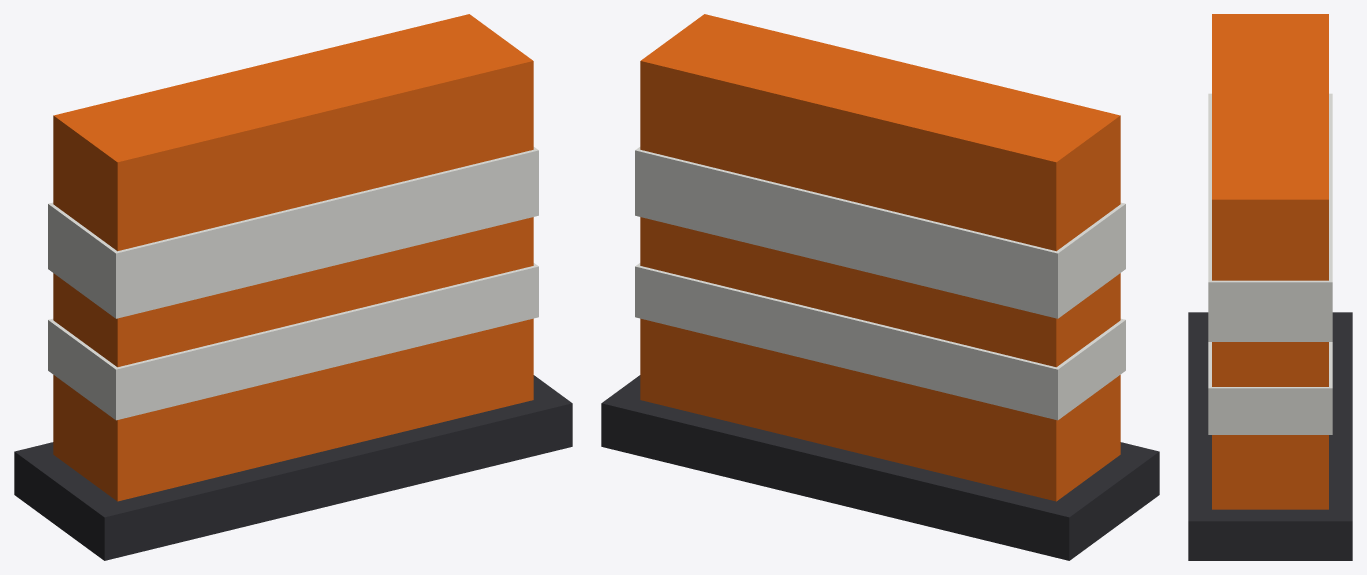
File: traffic_barrier_mh.glb
3 renders of one model, left to right at view 1: azimuth 30°, elevation 25°; view 2: azimuth 150°, elevation 25°; view 3: azimuth 270°, elevation 25°, orthographic. The views are drawn at different scales.
Parts seen in each view (by area): view 1: _MeshInstance3D_8, _MeshInstance3D_9, _MeshInstance3D_7, _MeshInstance3D_10; view 2: _MeshInstance3D_8, _MeshInstance3D_9, _MeshInstance3D_7, _MeshInstance3D_10; view 3: _MeshInstance3D_8, _MeshInstance3D_7, _MeshInstance3D_9, _MeshInstance3D_10.
Part boxes in pixels (x1=…): _MeshInstance3D_8: x1=53, y1=14, x2=533, y2=501; _MeshInstance3D_9: x1=48, y1=147, x2=538, y2=318; _MeshInstance3D_7: x1=14, y1=375, x2=572, y2=560; _MeshInstance3D_10: x1=48, y1=263, x2=538, y2=420; _MeshInstance3D_8: x1=640, y1=14, x2=1120, y2=501; _MeshInstance3D_9: x1=635, y1=147, x2=1125, y2=318; _MeshInstance3D_7: x1=601, y1=375, x2=1159, y2=560; _MeshInstance3D_10: x1=635, y1=263, x2=1125, y2=420; _MeshInstance3D_8: x1=1212, y1=14, x2=1328, y2=509; _MeshInstance3D_7: x1=1188, y1=312, x2=1352, y2=560; _MeshInstance3D_9: x1=1208, y1=93, x2=1332, y2=341; _MeshInstance3D_10: x1=1208, y1=342, x2=1332, y2=434.
Size of the model in its own units: 1.35 by 1.05 by 0.45.
